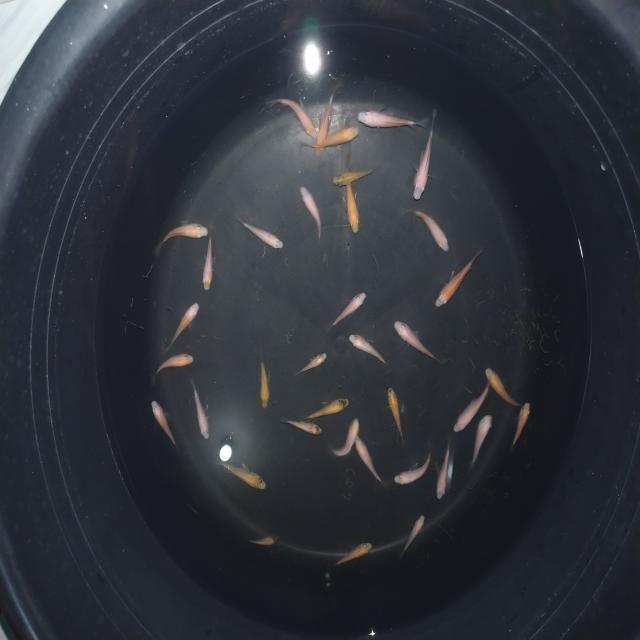nila: (432, 250, 482, 310), (448, 374, 494, 434), (392, 318, 446, 366), (404, 207, 456, 256), (411, 112, 437, 206), (356, 106, 428, 138), (268, 94, 316, 142), (314, 84, 344, 158), (233, 212, 284, 252), (484, 364, 528, 410), (156, 217, 212, 253), (341, 150, 364, 236), (354, 430, 387, 489), (164, 298, 200, 352), (325, 414, 362, 466), (212, 459, 269, 492), (392, 512, 428, 564), (304, 122, 362, 154), (325, 290, 368, 332), (150, 396, 180, 456), (392, 447, 434, 488), (348, 332, 392, 370), (469, 412, 494, 474), (433, 435, 456, 502), (331, 160, 384, 189), (188, 378, 212, 442), (298, 184, 324, 240), (302, 394, 352, 422), (386, 383, 407, 447), (507, 400, 531, 455), (152, 352, 196, 381), (328, 540, 376, 566), (200, 222, 216, 294), (292, 350, 328, 380), (278, 418, 324, 438), (257, 351, 270, 414), (246, 532, 282, 548)
